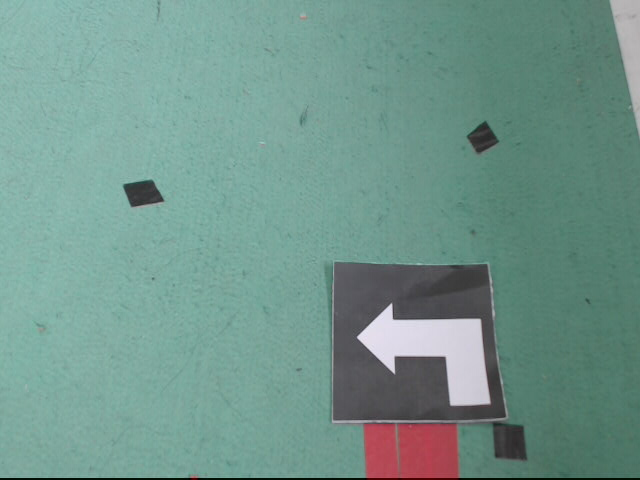left: (332, 262, 516, 424)
